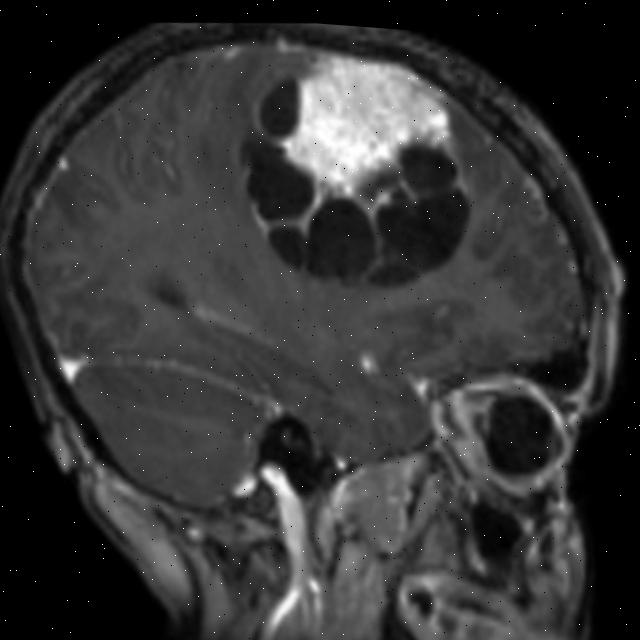Meningioma: (228, 41, 475, 302)
